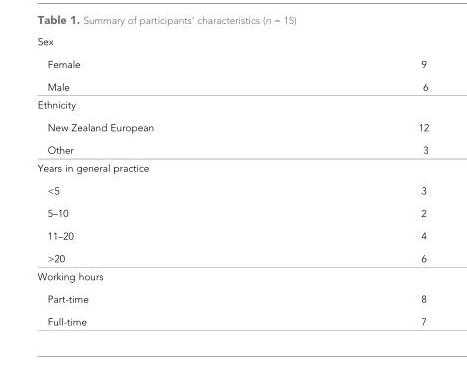table: (36, 36, 428, 326)
table column: (36, 36, 285, 326), (285, 36, 428, 326)
table row: (36, 159, 428, 267), (36, 95, 428, 159), (36, 36, 428, 95), (36, 267, 428, 326)
